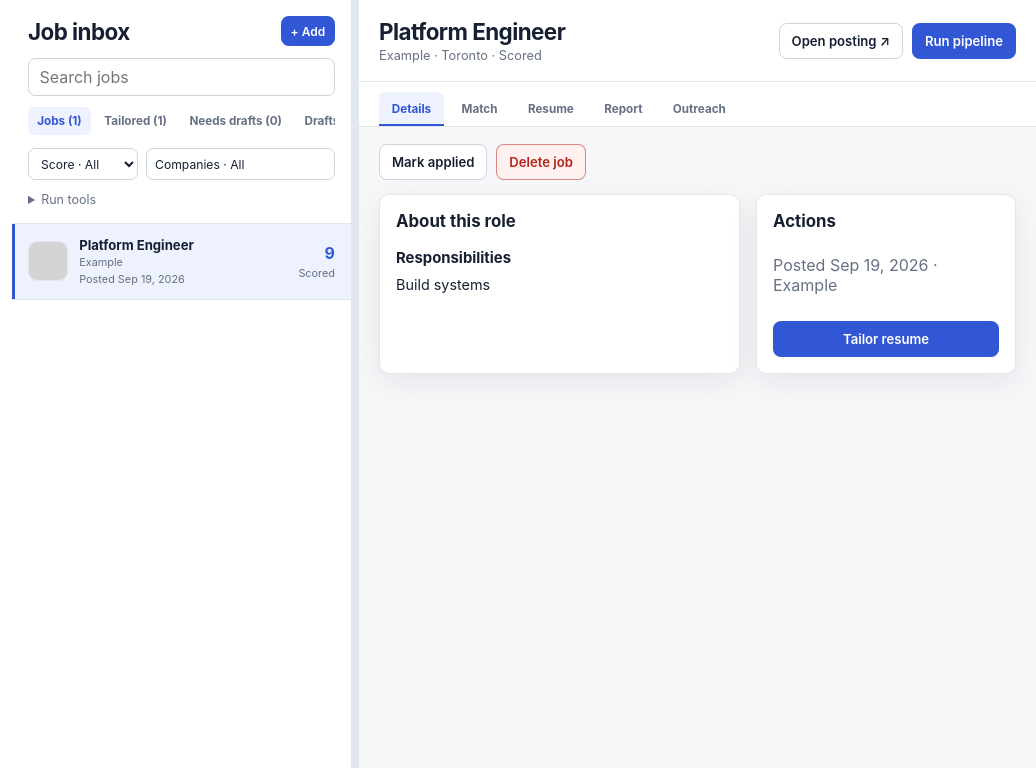
JobsPage › filters between the active and tailored buckets without a reload
This screenshot has width=1036, height=768.
expect the text "Platform Engineer" is shown: met, box [79,237,194,253]
expect the text "Frontend Engineer" is not shown: met
Click the button "Tailored (1)": (136, 121) [95,107,176,135]
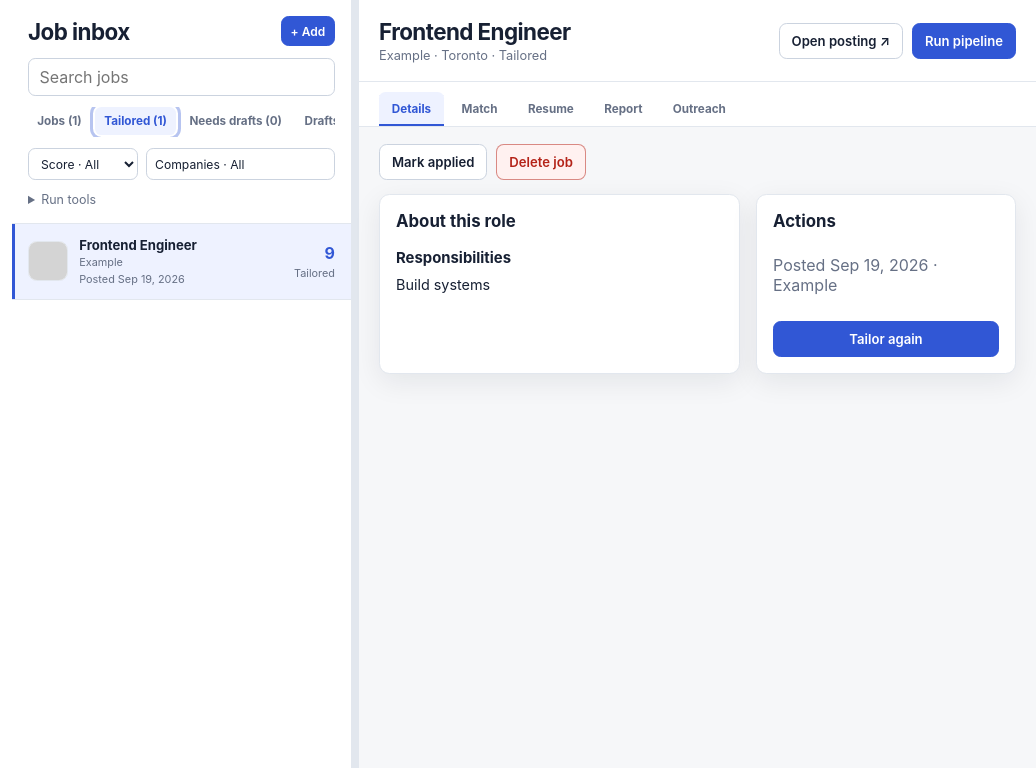
expect the text "Frontend Engineer" is shown: met, box [79,237,197,253]
expect the button "Platform Engineer" is gone: met
